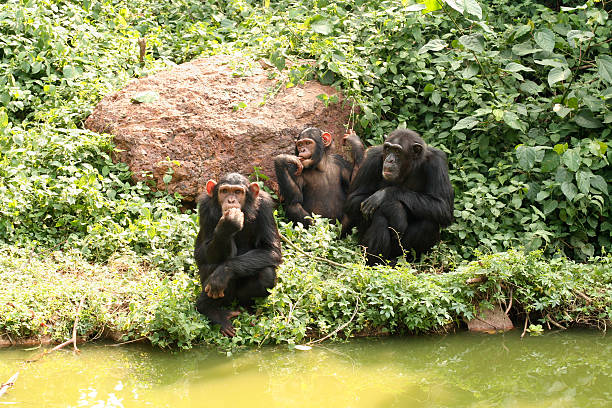chimpanzee: (194, 168, 278, 227), (367, 121, 426, 195), (292, 127, 339, 177)
